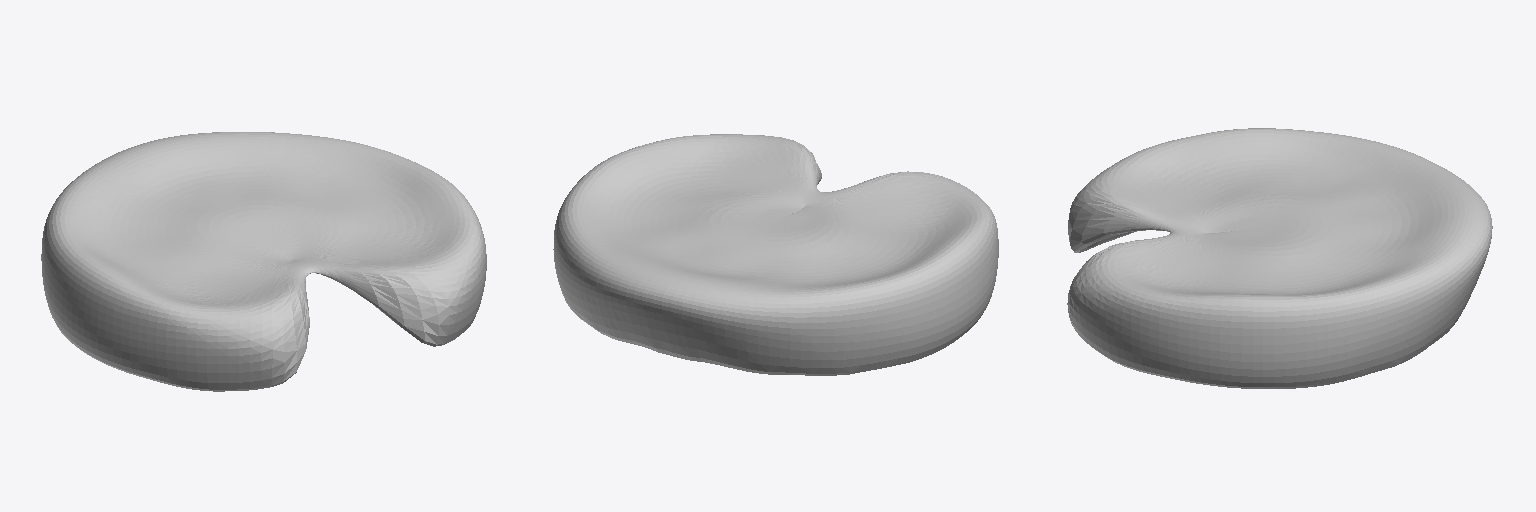
The model's file is lilypad.obj.
The picture shows the model from 3 angles: view 1: azimuth 30°, elevation 25°; view 2: azimuth 150°, elevation 25°; view 3: azimuth 270°, elevation 25°; orthographic projection.
Parts seen in each view (by area): view 1: Sphere; view 2: Sphere; view 3: Sphere.
Part boxes in pixels (bbox=[...]): Sphere: bbox=[41, 132, 486, 391]; Sphere: bbox=[553, 134, 998, 375]; Sphere: bbox=[1067, 128, 1492, 388].
Bounding box in the file's own units: 2 × 0.4523 × 1.91.